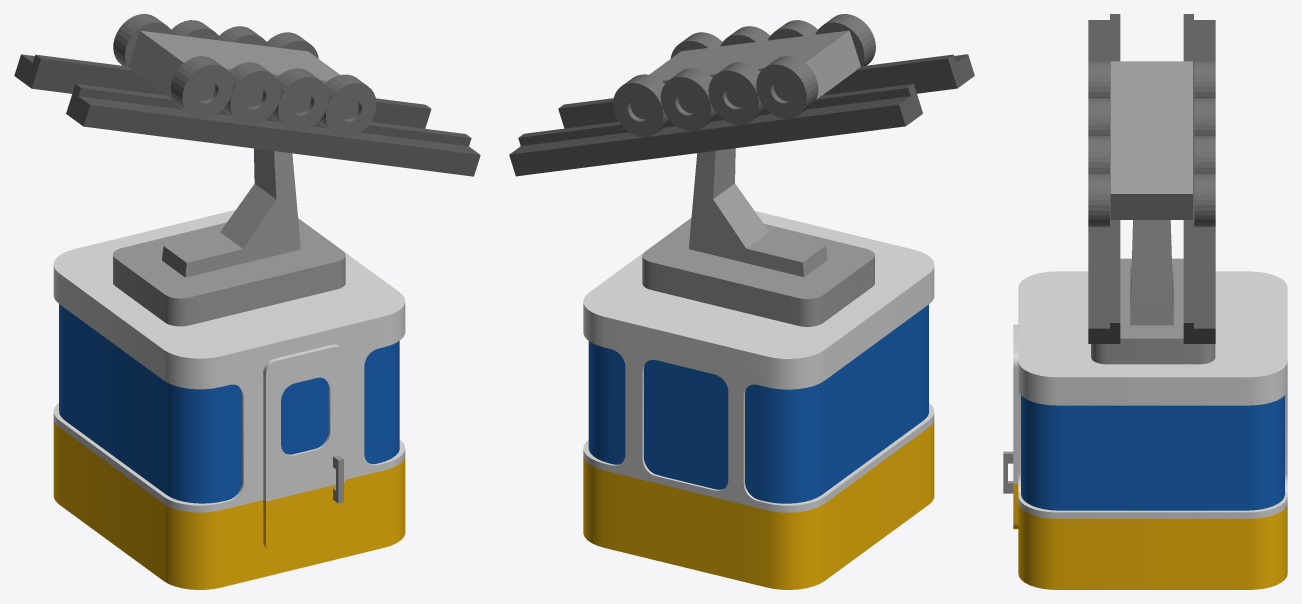
File: aerial_tramway.glb
3 renders of one model, left to right at view 1: azimuth 30°, elevation 25°; view 2: azimuth 150°, elevation 25°; view 3: azimuth 270°, elevation 25°, orthographic. The views are drawn at different scales.
Visible parts, largest first — view 1: Cube.866, Cube.867, Cylinder.457; view 2: Cube.866, Cube.867, Cylinder.457; view 3: Cube.866, Cube.867, Cylinder.457.
Part boxes in pixels (left/top/right/bottom): Cube.866: left=53, top=30, right=405, bottom=589; Cube.867: left=14, top=54, right=480, bottom=176; Cylinder.457: left=113, top=14, right=376, bottom=137; Cube.866: left=583, top=30, right=934, bottom=589; Cube.867: left=509, top=54, right=974, bottom=176; Cylinder.457: left=613, top=14, right=875, bottom=137; Cube.866: left=1013, top=61, right=1287, bottom=589; Cube.867: left=1088, top=14, right=1215, bottom=343; Cylinder.457: left=1088, top=60, right=1215, bottom=227.
Bounding box in the file's own units: 1.58 × 1.84 × 1.06.
1 material, 1 textured.
